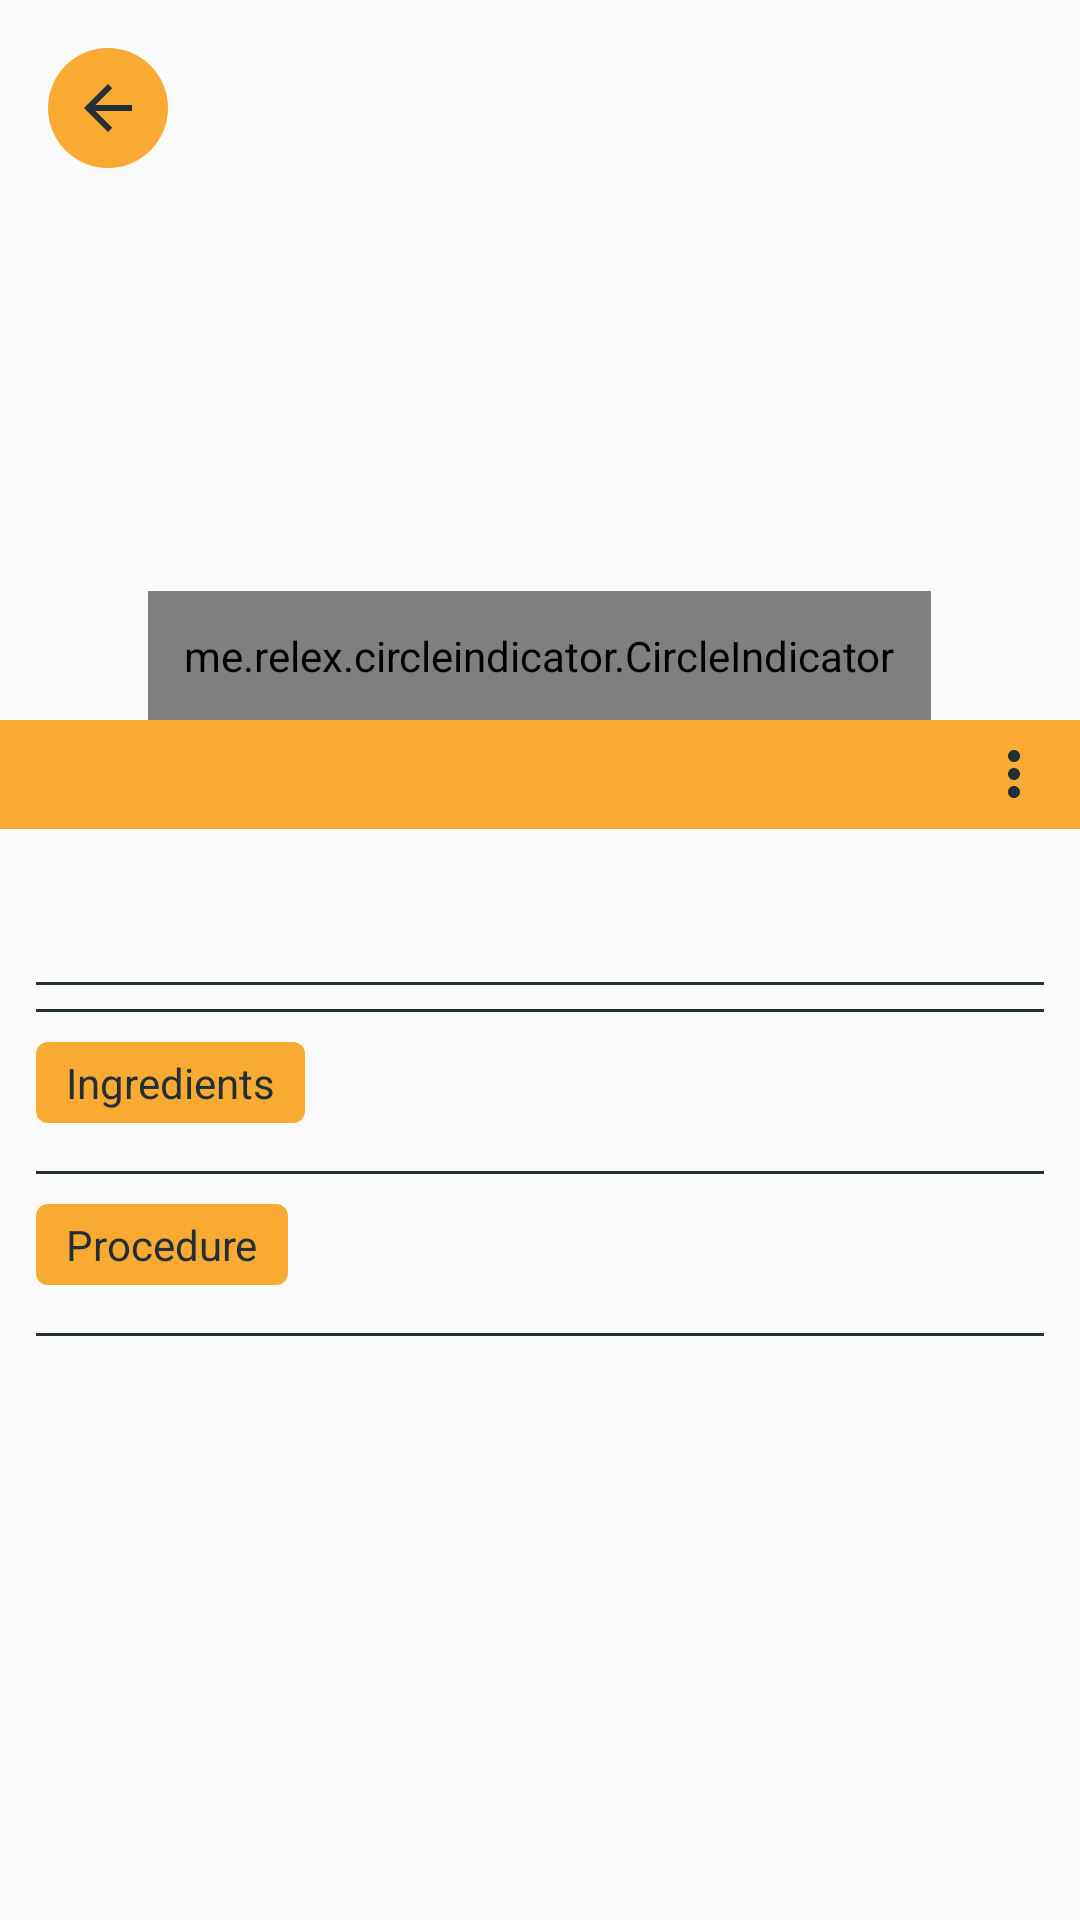

Where icons sit on this 1080w x 1920h app screen, as (x1, y1, x2, y2):
back: (48, 48, 168, 168)
overflow: (1008, 750, 1020, 798)
